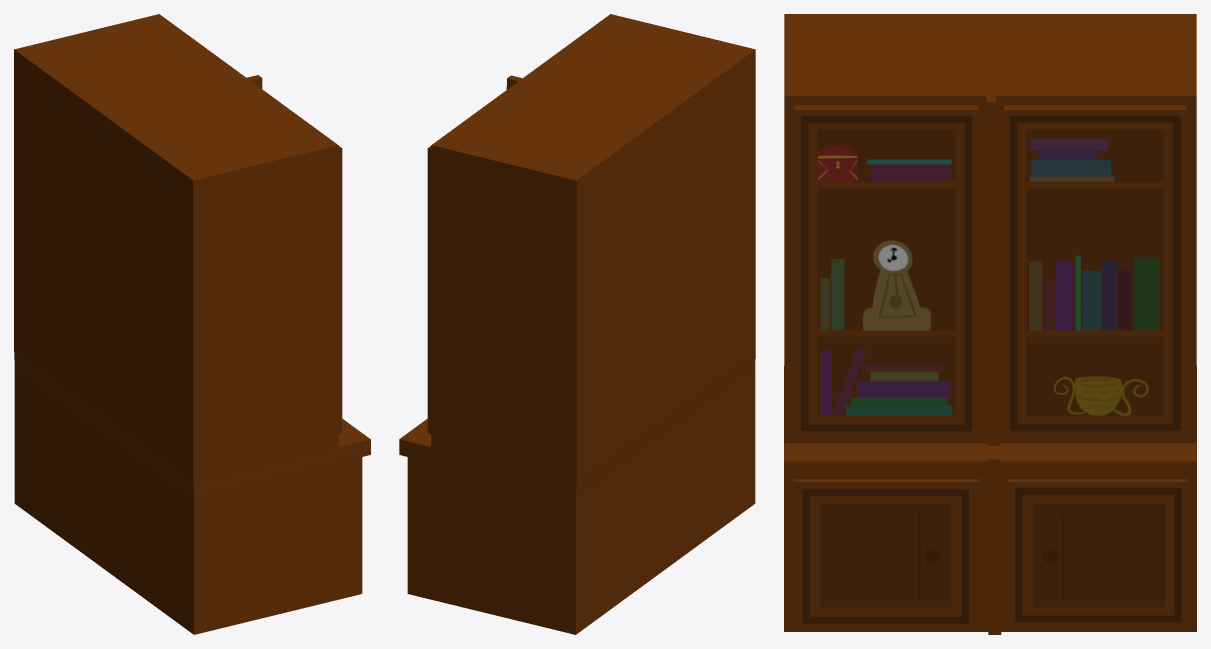
Rendered from Bookshelf2.obj.
3 views of the same model, side by side, from view 1: azimuth 30°, elevation 25°; view 2: azimuth 150°, elevation 25°; view 3: azimuth 270°, elevation 25° (orthographic). The views are drawn at different scales.
Parts seen in each view (by area): view 1: Bookcase2; view 2: Bookcase2; view 3: Bookcase2.
Part boxes in pixels (<box>): Bookcase2: <box>14,14,370,634</box>; Bookcase2: <box>399,14,755,634</box>; Bookcase2: <box>784,14,1196,634</box>.
Size of the model in its own units: 136 by 328 by 235.
